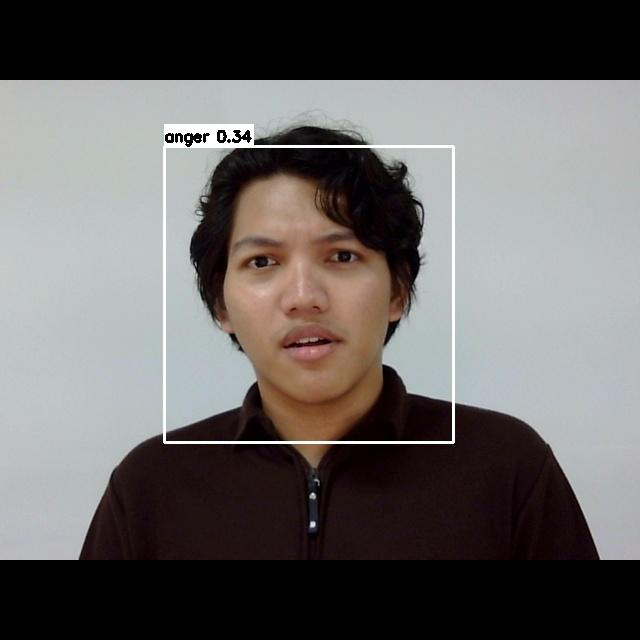Surprised: (213, 209, 404, 397)
